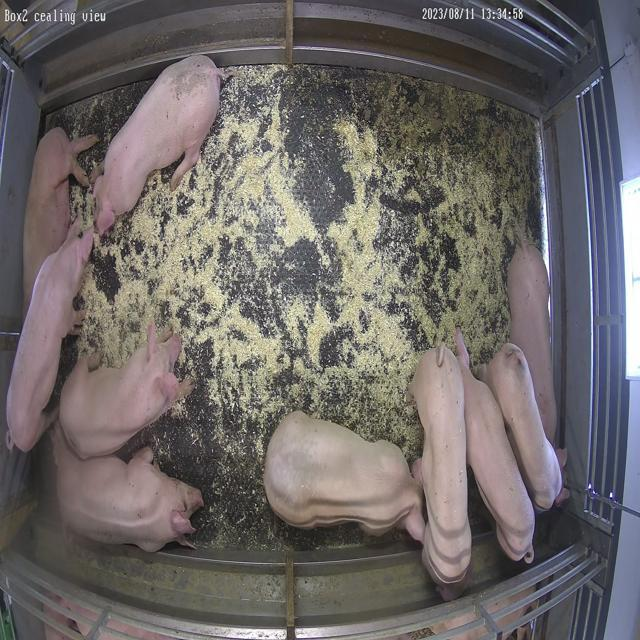Dirt: (355, 70, 543, 230)
Pig: (93, 55, 221, 234), (264, 412, 426, 542), (6, 225, 93, 452), (53, 426, 204, 553), (456, 330, 535, 564), (59, 324, 184, 460), (411, 346, 473, 598), (22, 127, 97, 310), (488, 343, 563, 511), (509, 239, 558, 442)
